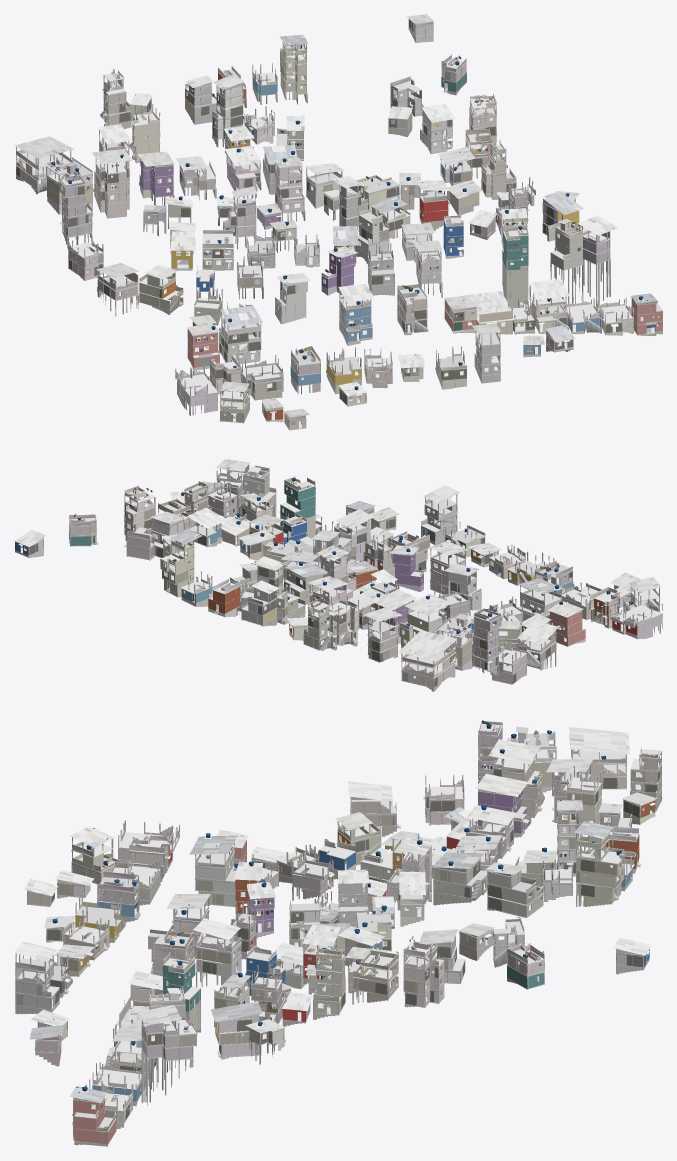
The picture shows the model from 3 angles, top to bottom: view 1: azimuth 30°, elevation 25°; view 2: azimuth 150°, elevation 25°; view 3: azimuth 270°, elevation 25°; orthographic projection. The views are drawn at different scales.
Parts seen in each view (by area): view 1: T_25_26; view 2: T_25_26; view 3: T_25_26.
Boxes of the visible parts, left/top/right/bottom form: T_25_26: left=14, top=14, right=662, bottom=430; T_25_26: left=14, top=459, right=662, bottom=691; T_25_26: left=14, top=720, right=662, bottom=1146.
Size of the model in its own units: 136 by 50.97 by 136.
